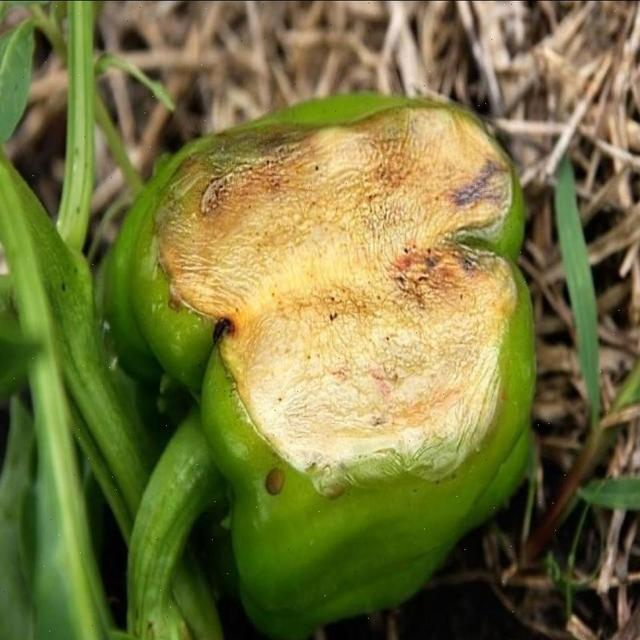Sunscald Fruit: (108, 55, 341, 346)
